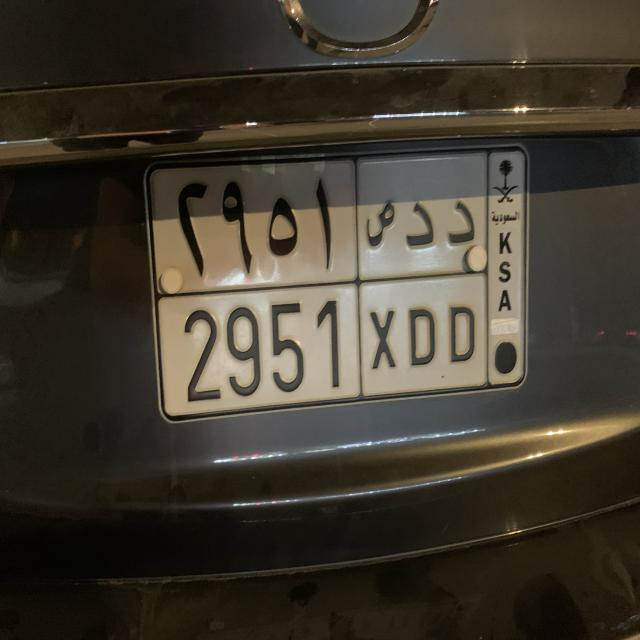license_plate: (142, 138, 532, 427)
